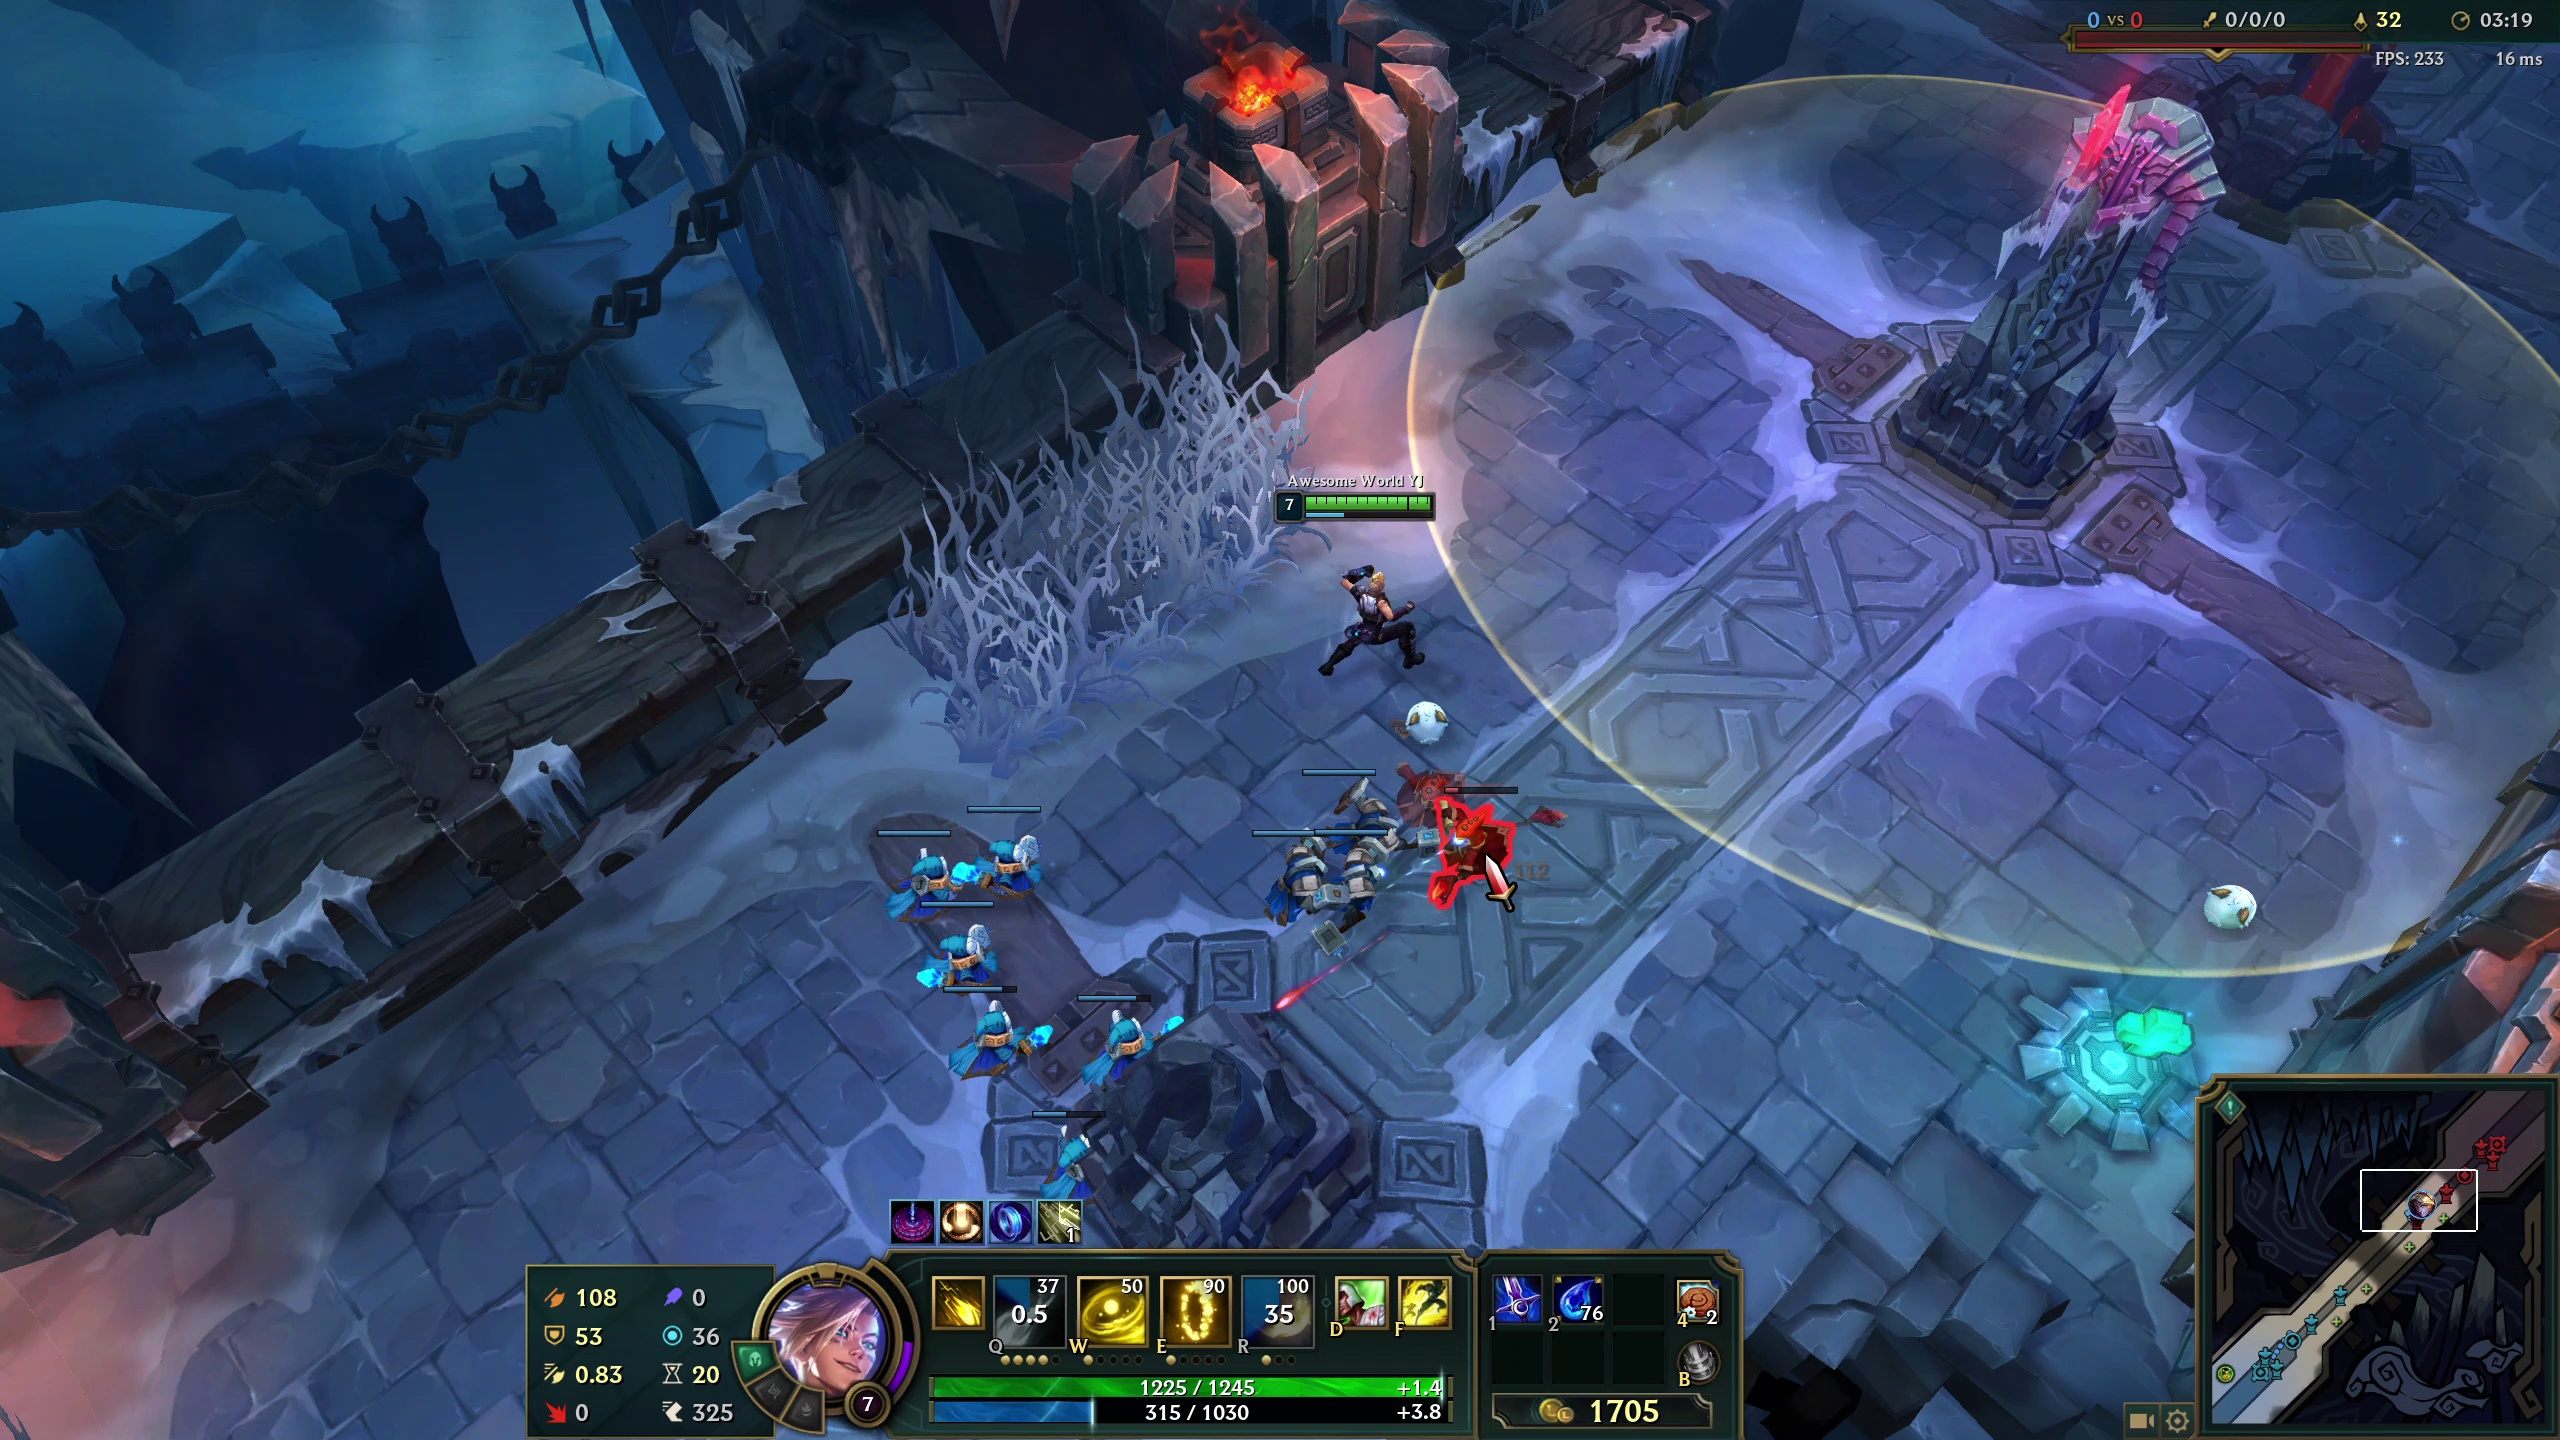EZ: (1322, 475, 1431, 710)
EnemyMinion: (1431, 781, 1517, 904)
Glass: (985, 431, 1245, 638)
Inhibitor: (2207, 63, 2418, 227)
MyMinion: (907, 890, 993, 983), (962, 804, 1046, 897), (1069, 985, 1153, 1078), (1015, 1095, 1099, 1189), (876, 819, 960, 911), (934, 976, 1018, 1067), (1250, 823, 1335, 914), (1315, 821, 1400, 913), (1303, 747, 1387, 839)
Turret: (1909, 125, 2198, 542)
